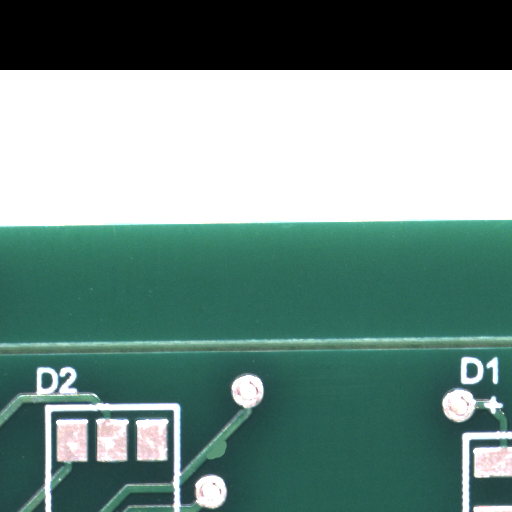Spur: (216, 451, 236, 469)
